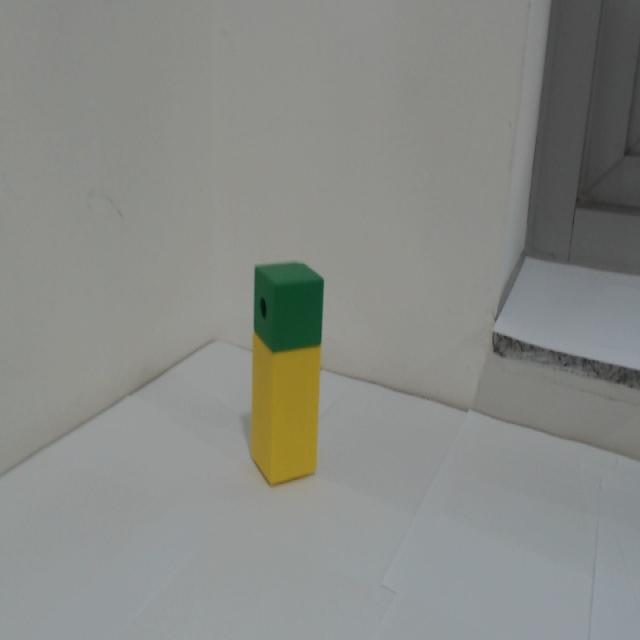cube: (245, 252, 330, 355)
